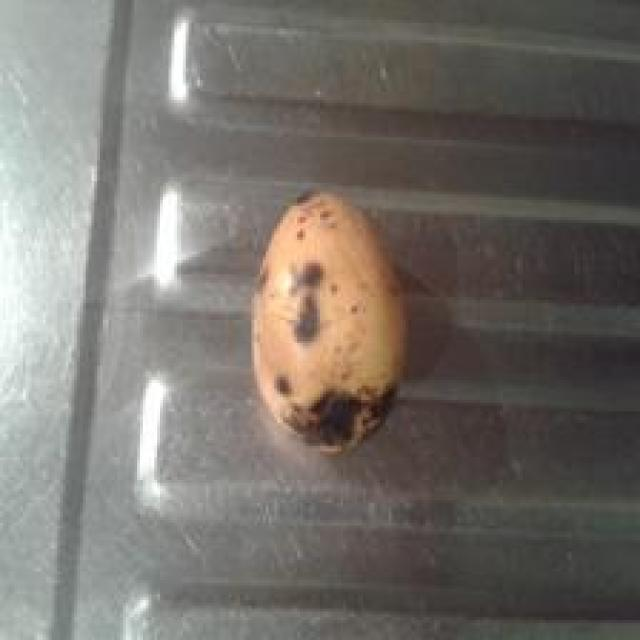Wet Waste: (245, 173, 418, 460)
